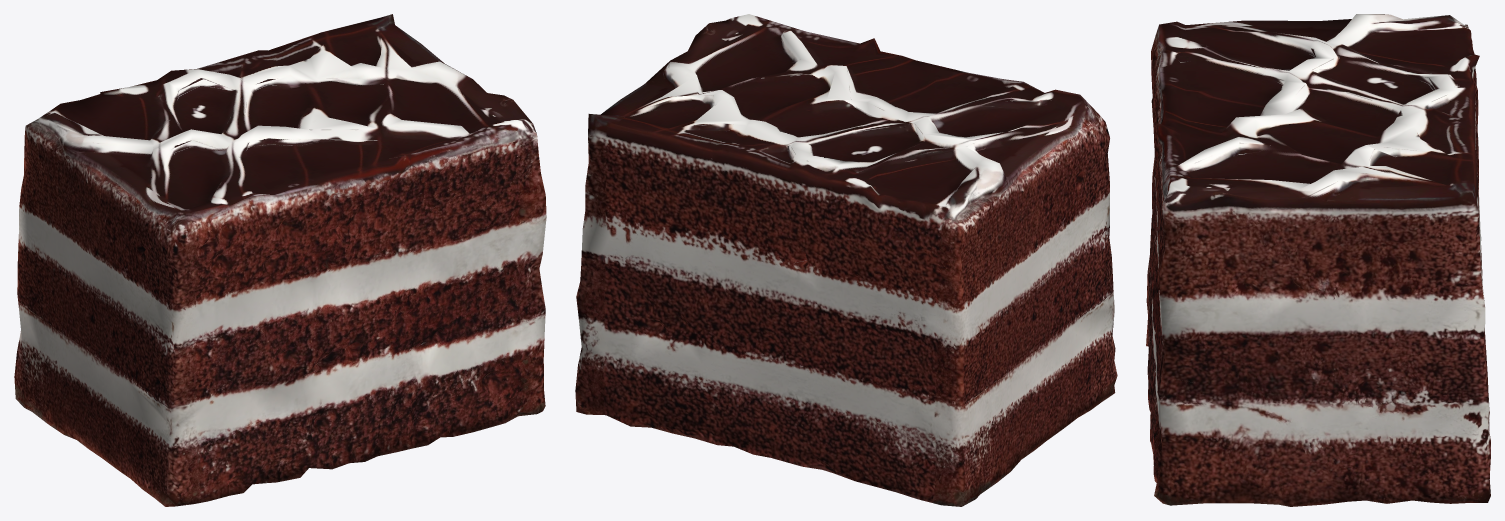
Rendered from chocolate_cake (1).glb.
The picture shows the model from 3 angles, left to right: view 1: azimuth 30°, elevation 25°; view 2: azimuth 150°, elevation 25°; view 3: azimuth 270°, elevation 25°; orthographic projection. The views are drawn at different scales.
Visible parts, largest first — view 1: Mesh10; view 2: Mesh10; view 3: Mesh10.
Boxes of the visible parts, x1,y1,x2,y2 form: Mesh10: [14, 14, 546, 506]; Mesh10: [575, 14, 1117, 506]; Mesh10: [1146, 14, 1490, 506].
Bounding box in the file's own units: 1.89 × 1.41 × 1.39.
1 material, 1 textured.
